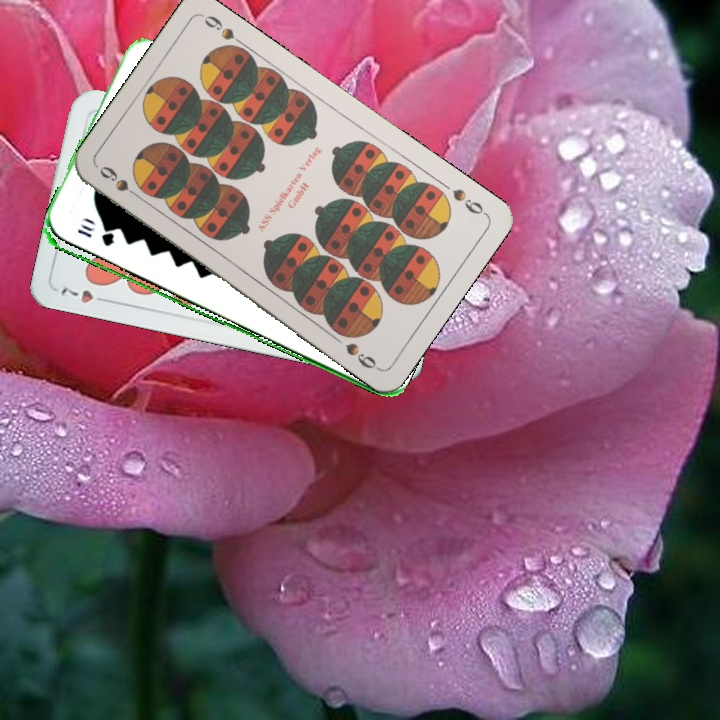G10: (73, 225, 117, 249)
H7: (57, 282, 113, 306)
S9: (95, 161, 146, 203), (448, 184, 490, 218)
